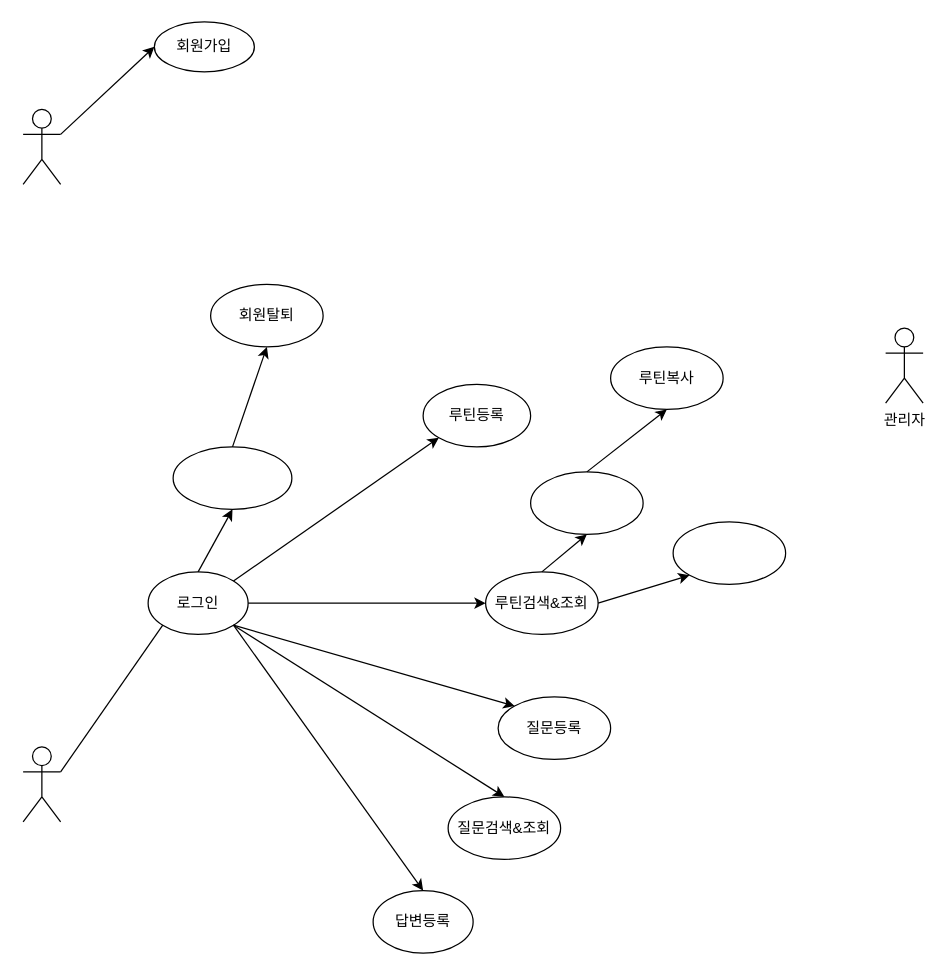
The diagram is 946 pixels wide and 975 high, and some of its shapes have lost their labels. The shapes that lost their labels are listed below. From the top down, each one's centre as x and y in pixels, then its label:
At (x=41, y=146): "비회원".
At (x=232, y=477): "회원정보수정".
At (x=586, y=502): "루틴담기".
At (x=729, y=552): "좋아요버튼".
At (x=41, y=784): "회원1".
